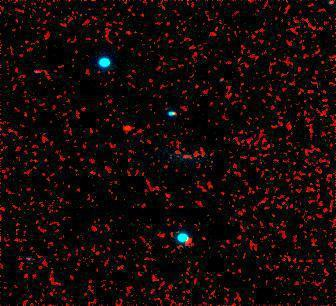star: (113, 112, 143, 142)
